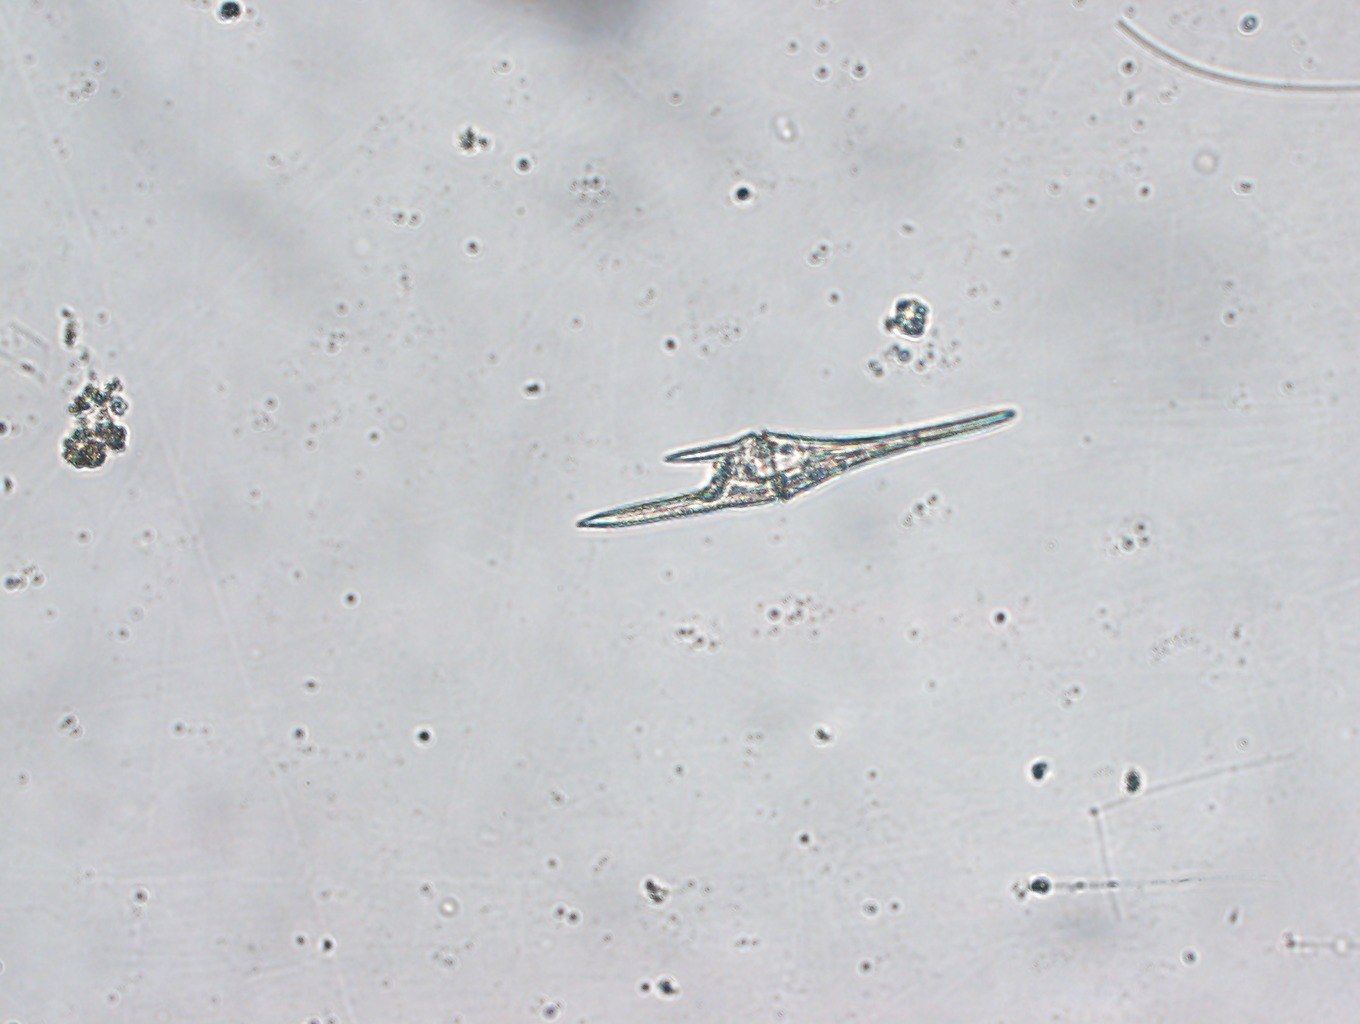ceratium furca: (572, 407, 1021, 531)
